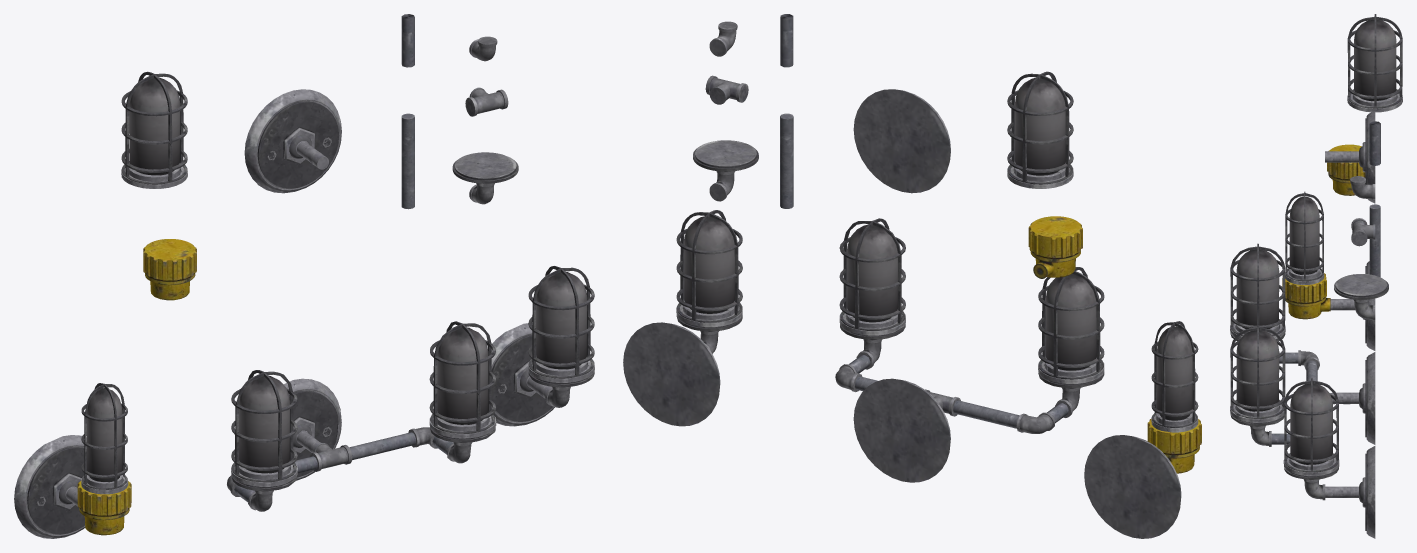
The model's file is tw-sconce.glb.
The picture shows the model from 3 angles, left to right: view 1: azimuth 30°, elevation 25°; view 2: azimuth 150°, elevation 25°; view 3: azimuth 270°, elevation 25°; orthographic projection. The views are drawn at different scales.
Visible parts, largest first — view 1: industrial_caged_sconce_c, industrial_caged_sconce_b, industrial_caged_sconce_a, industrial_caged_sconce_mount, industrial_caged_sconce_light, industrial_caged_sconce_base_a, industrial_caged_sconce_base_b, industrial_caged_sconce_pipe_long, industrial_caged_sconce_pipe_t, industrial_caged_sconce_pipe_short; view 2: industrial_caged_sconce_c, industrial_caged_sconce_a, industrial_caged_sconce_b, industrial_caged_sconce_mount, industrial_caged_sconce_light, industrial_caged_sconce_base_a, industrial_caged_sconce_base_b, industrial_caged_sconce_pipe_long, industrial_caged_sconce_pipe_t, industrial_caged_sconce_pipe_short; view 3: industrial_caged_sconce_c, industrial_caged_sconce_a, industrial_caged_sconce_b, industrial_caged_sconce_light, industrial_caged_sconce_base_b, industrial_caged_sconce_mount, industrial_caged_sconce_base_a, industrial_caged_sconce_pipe_long, industrial_caged_sconce_pipe_t, industrial_caged_sconce_pipe_short, industrial_caged_sconce_elbow.
Part boxes in pixels (left/top/right/bottom): industrial_caged_sconce_c: left=227, top=321, right=496, bottom=511; industrial_caged_sconce_b: left=14, top=383, right=131, bottom=538; industrial_caged_sconce_a: left=491, top=266, right=594, bottom=426; industrial_caged_sconce_mount: left=244, top=89, right=341, bottom=193; industrial_caged_sconce_light: left=121, top=71, right=187, bottom=188; industrial_caged_sconce_base_a: left=143, top=239, right=196, bottom=300; industrial_caged_sconce_base_b: left=452, top=152, right=518, bottom=204; industrial_caged_sconce_pipe_long: left=401, top=113, right=414, bottom=209; industrial_caged_sconce_pipe_t: left=465, top=87, right=508, bottom=116; industrial_caged_sconce_pipe_short: left=401, top=14, right=414, bottom=67; industrial_caged_sconce_c: left=835, top=218, right=1104, bottom=482; industrial_caged_sconce_a: left=623, top=210, right=742, bottom=426; industrial_caged_sconce_b: left=1084, top=321, right=1201, bottom=538; industrial_caged_sconce_mount: left=853, top=89, right=950, bottom=193; industrial_caged_sconce_light: left=1007, top=71, right=1073, bottom=188; industrial_caged_sconce_base_a: left=1028, top=216, right=1082, bottom=278; industrial_caged_sconce_base_b: left=693, top=140, right=758, bottom=201; industrial_caged_sconce_pipe_long: left=780, top=113, right=793, bottom=208; industrial_caged_sconce_pipe_t: left=705, top=75, right=748, bottom=104; industrial_caged_sconce_pipe_short: left=780, top=14, right=793, bottom=67; industrial_caged_sconce_c: left=1230, top=243, right=1375, bottom=446; industrial_caged_sconce_a: left=1283, top=378, right=1375, bottom=538; industrial_caged_sconce_b: left=1282, top=191, right=1375, bottom=350; industrial_caged_sconce_light: left=1347, top=14, right=1402, bottom=112; industrial_caged_sconce_base_b: left=1334, top=274, right=1388, bottom=320; industrial_caged_sconce_mount: left=1325, top=110, right=1375, bottom=203; industrial_caged_sconce_base_a: left=1327, top=144, right=1365, bottom=195; industrial_caged_sconce_pipe_long: left=1369, top=204, right=1380, bottom=277; industrial_caged_sconce_pipe_t: left=1351, top=218, right=1375, bottom=246; industrial_caged_sconce_pipe_short: left=1369, top=121, right=1380, bottom=165; industrial_caged_sconce_elbow: left=1350, top=176, right=1375, bottom=199.
Bounding box in the file's own units: 1.21 × 0.9128 × 0.3894.
Materials: 1 (1 with a texture image).
